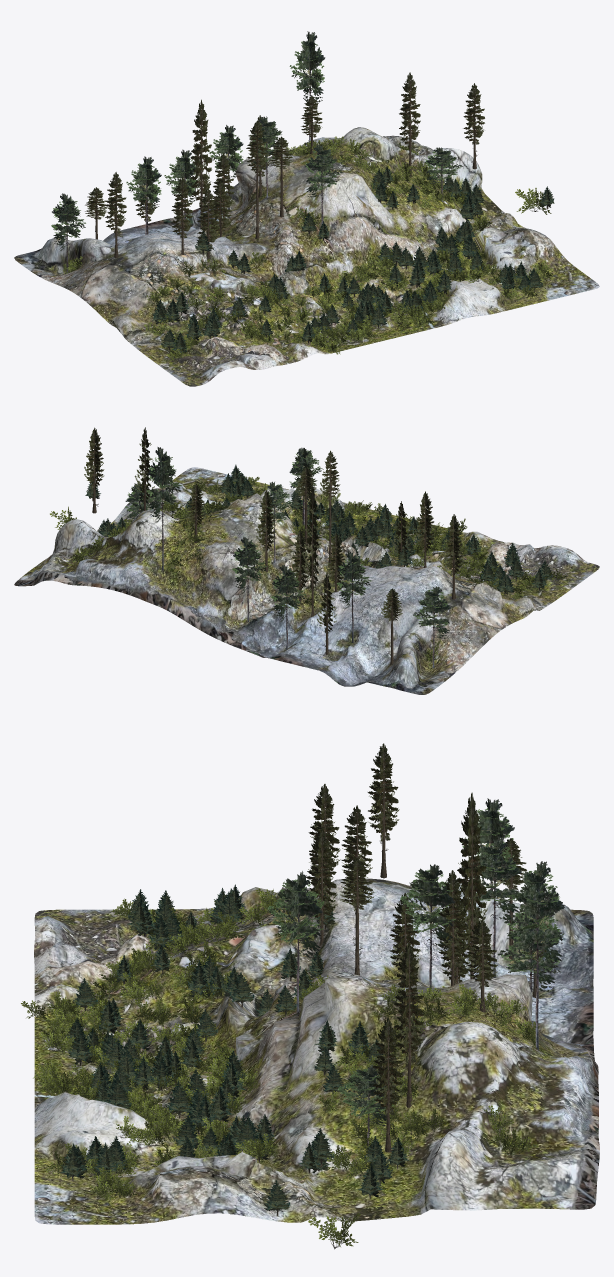
3 renders of one model, top to bottom at view 1: azimuth 30°, elevation 25°; view 2: azimuth 150°, elevation 25°; view 3: azimuth 270°, elevation 25°, orthographic. The views are drawn at different scales.
Visible parts, largest first — view 1: a37081a7611992c6f6d9dc1786dbc08d_a37081a7611992c6f6d9dc1786d, 05ade0e713892be558511d706fa6c547-no-bg-preview (carve.photos (×8), Cylinder.023_5abdab9bf64818adacd4984d5925e5ca (1)-no-bg-prev, Cylinder.018_5abdab9bf64818adacd4984d5925e5ca (1)-no-bg-prev, Cylinder.019_5abdab9bf64818adacd4984d5925e5ca (1)-no-bg-prev, Cylinder.016_5abdab9bf64818adacd4984d5925e5ca (1)-no-bg-prev, Cylinder.015_5abdab9bf64818adacd4984d5925e5ca (1)-no-bg-prev, Cylinder.014_5abdab9bf64818adacd4984d5925e5ca (1)-no-bg-prev, Cylinder.012_5abdab9bf64818adacd4984d5925e5ca (1)-no-bg-prev, Cylinder.017_5abdab9bf64818adacd4984d5925e5ca (1)-no-bg-prev, Cylinder.022_5abdab9bf64818adacd4984d5925e5ca (1)-no-bg-prev, Cylinder.020_5abdab9bf64818adacd4984d5925e5ca (1)-no-bg-prev; view 2: a37081a7611992c6f6d9dc1786dbc08d_a37081a7611992c6f6d9dc1786d, 05ade0e713892be558511d706fa6c547-no-bg-preview (carve.photos (×8), Cylinder.023_5abdab9bf64818adacd4984d5925e5ca (1)-no-bg-prev, Cylinder.015_5abdab9bf64818adacd4984d5925e5ca (1)-no-bg-prev, Cylinder.019_5abdab9bf64818adacd4984d5925e5ca (1)-no-bg-prev, Cylinder.016_5abdab9bf64818adacd4984d5925e5ca (1)-no-bg-prev, Cylinder.021_5abdab9bf64818adacd4984d5925e5ca (1)-no-bg-prev, Cylinder.022_5abdab9bf64818adacd4984d5925e5ca (1)-no-bg-prev, Cylinder.023, Cylinder.017_5abdab9bf64818adacd4984d5925e5ca (1)-no-bg-prev, Cylinder.012_5abdab9bf64818adacd4984d5925e5ca (1)-no-bg-prev, Cylinder.018_5abdab9bf64818adacd4984d5925e5ca (1)-no-bg-prev (+6 smaller); view 3: a37081a7611992c6f6d9dc1786dbc08d_a37081a7611992c6f6d9dc1786d, 05ade0e713892be558511d706fa6c547-no-bg-preview (carve.photos (×11), Cylinder.023_5abdab9bf64818adacd4984d5925e5ca (1)-no-bg-prev, Cylinder.018_5abdab9bf64818adacd4984d5925e5ca (1)-no-bg-prev, Cylinder.016_5abdab9bf64818adacd4984d5925e5ca (1)-no-bg-prev, Cylinder.019_5abdab9bf64818adacd4984d5925e5ca (1)-no-bg-prev, Cylinder.014_5abdab9bf64818adacd4984d5925e5ca (1)-no-bg-prev, Cylinder.021_5abdab9bf64818adacd4984d5925e5ca (1)-no-bg-prev, Cylinder.015_5abdab9bf64818adacd4984d5925e5ca (1)-no-bg-prev, Cylinder.020_5abdab9bf64818adacd4984d5925e5ca (1)-no-bg-prev, Cylinder.017_5abdab9bf64818adacd4984d5925e5ca (1)-no-bg-prev, Cylinder.012_5abdab9bf64818adacd4984d5925e5ca (1)-no-bg-prev (+3 smaller).
Part boxes in pixels (box(x1,y1,x2,y2)): a37081a7611992c6f6d9dc1786dbc08d_a37081a7611992c6f6d9dc1786d: box(14, 127, 599, 386); 05ade0e713892be558511d706fa6c547-no-bg-preview (carve.photos (×8): box(52, 31, 462, 273); Cylinder.023_5abdab9bf64818adacd4984d5925e5ca (1)-no-bg-prev: box(190, 99, 211, 207); Cylinder.018_5abdab9bf64818adacd4984d5925e5ca (1)-no-bg-prev: box(399, 72, 420, 148); Cylinder.019_5abdab9bf64818adacd4984d5925e5ca (1)-no-bg-prev: box(463, 83, 484, 144); Cylinder.016_5abdab9bf64818adacd4984d5925e5ca (1)-no-bg-prev: box(105, 172, 126, 245); Cylinder.015_5abdab9bf64818adacd4984d5925e5ca (1)-no-bg-prev: box(171, 177, 192, 251); Cylinder.014_5abdab9bf64818adacd4984d5925e5ca (1)-no-bg-prev: box(197, 188, 218, 249); Cylinder.012_5abdab9bf64818adacd4984d5925e5ca (1)-no-bg-prev: box(246, 121, 267, 190); Cylinder.017_5abdab9bf64818adacd4984d5925e5ca (1)-no-bg-prev: box(210, 181, 230, 233); Cylinder.022_5abdab9bf64818adacd4984d5925e5ca (1)-no-bg-prev: box(213, 153, 234, 214); Cylinder.020_5abdab9bf64818adacd4984d5925e5ca (1)-no-bg-prev: box(301, 95, 322, 137); a37081a7611992c6f6d9dc1786dbc08d_a37081a7611992c6f6d9dc1786d: box(14, 467, 599, 694); 05ade0e713892be558511d706fa6c547-no-bg-preview (carve.photos (×8): box(125, 447, 451, 667); Cylinder.023_5abdab9bf64818adacd4984d5925e5ca (1)-no-bg-prev: box(307, 484, 318, 590); Cylinder.015_5abdab9bf64818adacd4984d5925e5ca (1)-no-bg-prev: box(417, 491, 434, 553); Cylinder.019_5abdab9bf64818adacd4984d5925e5ca (1)-no-bg-prev: box(86, 427, 103, 489); Cylinder.016_5abdab9bf64818adacd4984d5925e5ca (1)-no-bg-prev: box(445, 514, 462, 575); Cylinder.021_5abdab9bf64818adacd4984d5925e5ca (1)-no-bg-prev: box(258, 490, 275, 551); Cylinder.022_5abdab9bf64818adacd4984d5925e5ca (1)-no-bg-prev: box(292, 529, 308, 590); Cylinder.023: box(302, 492, 322, 616); Cylinder.017_5abdab9bf64818adacd4984d5925e5ca (1)-no-bg-prev: box(327, 533, 344, 586); Cylinder.012_5abdab9bf64818adacd4984d5925e5ca (1)-no-bg-prev: box(322, 450, 339, 519); Cylinder.018_5abdab9bf64818adacd4984d5925e5ca (1)-no-bg-prev: box(139, 427, 150, 501); a37081a7611992c6f6d9dc1786dbc08d_a37081a7611992c6f6d9dc1786d: box(34, 878, 599, 1224); 05ade0e713892be558511d706fa6c547-no-bg-preview (carve.photos (×11): box(267, 798, 565, 1149); Cylinder.023_5abdab9bf64818adacd4984d5925e5ca (1)-no-bg-prev: box(456, 792, 486, 961); Cylinder.018_5abdab9bf64818adacd4984d5925e5ca (1)-no-bg-prev: box(393, 942, 424, 1068); Cylinder.016_5abdab9bf64818adacd4984d5925e5ca (1)-no-bg-prev: box(367, 743, 398, 841); Cylinder.019_5abdab9bf64818adacd4984d5925e5ca (1)-no-bg-prev: box(372, 1017, 402, 1119); Cylinder.014_5abdab9bf64818adacd4984d5925e5ca (1)-no-bg-prev: box(306, 828, 336, 926); Cylinder.021_5abdab9bf64818adacd4984d5925e5ca (1)-no-bg-prev: box(437, 870, 467, 971); Cylinder.015_5abdab9bf64818adacd4984d5925e5ca (1)-no-bg-prev: box(308, 784, 339, 880); Cylinder.020_5abdab9bf64818adacd4984d5925e5ca (1)-no-bg-prev: box(467, 919, 497, 987); Cylinder.017_5abdab9bf64818adacd4984d5925e5ca (1)-no-bg-prev: box(389, 893, 419, 975); Cylinder.012_5abdab9bf64818adacd4984d5925e5ca (1)-no-bg-prev: box(341, 805, 371, 914).
Bounding box in the file's own units: 33.66 × 13.04 × 23.4.
10 materials, 10 textured.
